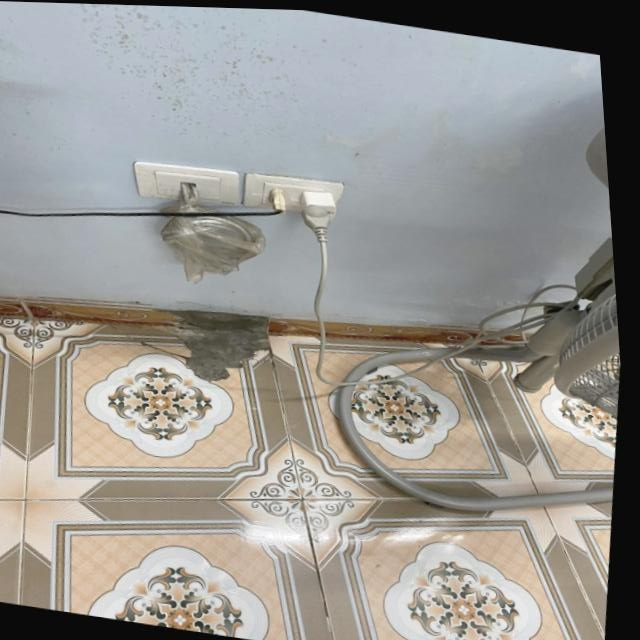outlet: (128, 157, 243, 214), (239, 170, 346, 224)
